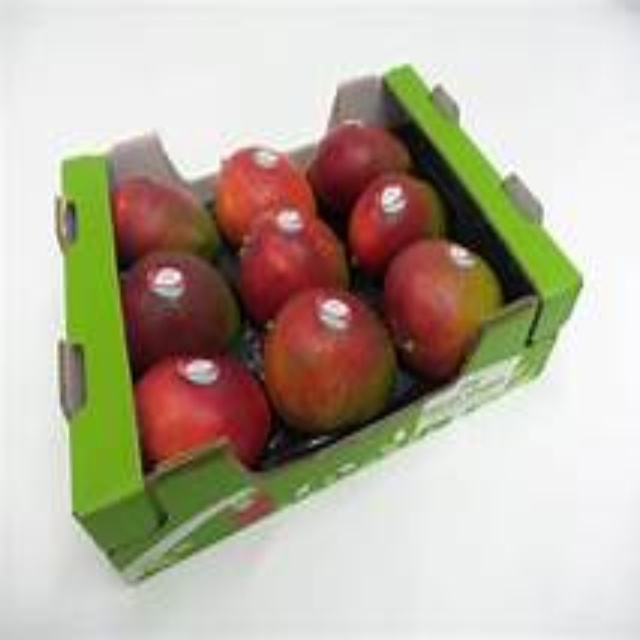mango: (268, 293, 400, 431), (388, 238, 504, 371), (138, 364, 264, 470), (138, 248, 236, 356), (244, 208, 346, 308), (218, 135, 310, 235), (353, 173, 443, 270), (115, 176, 216, 258), (319, 114, 408, 205)
